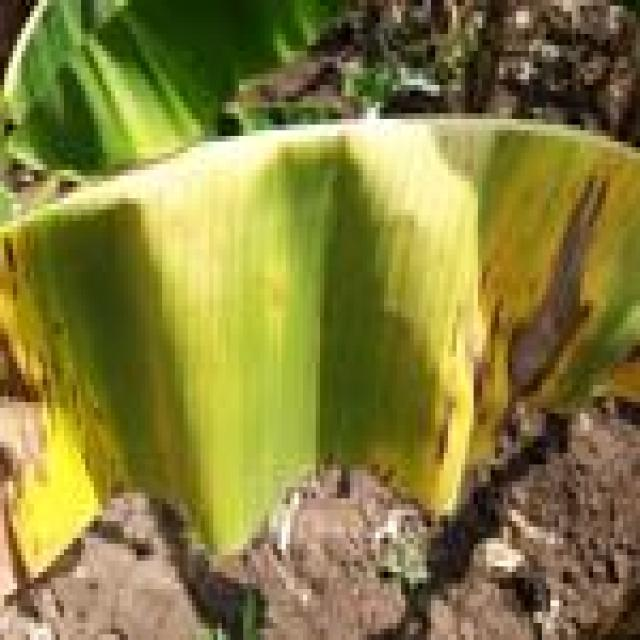Early_rust: (0, 118, 640, 562)
